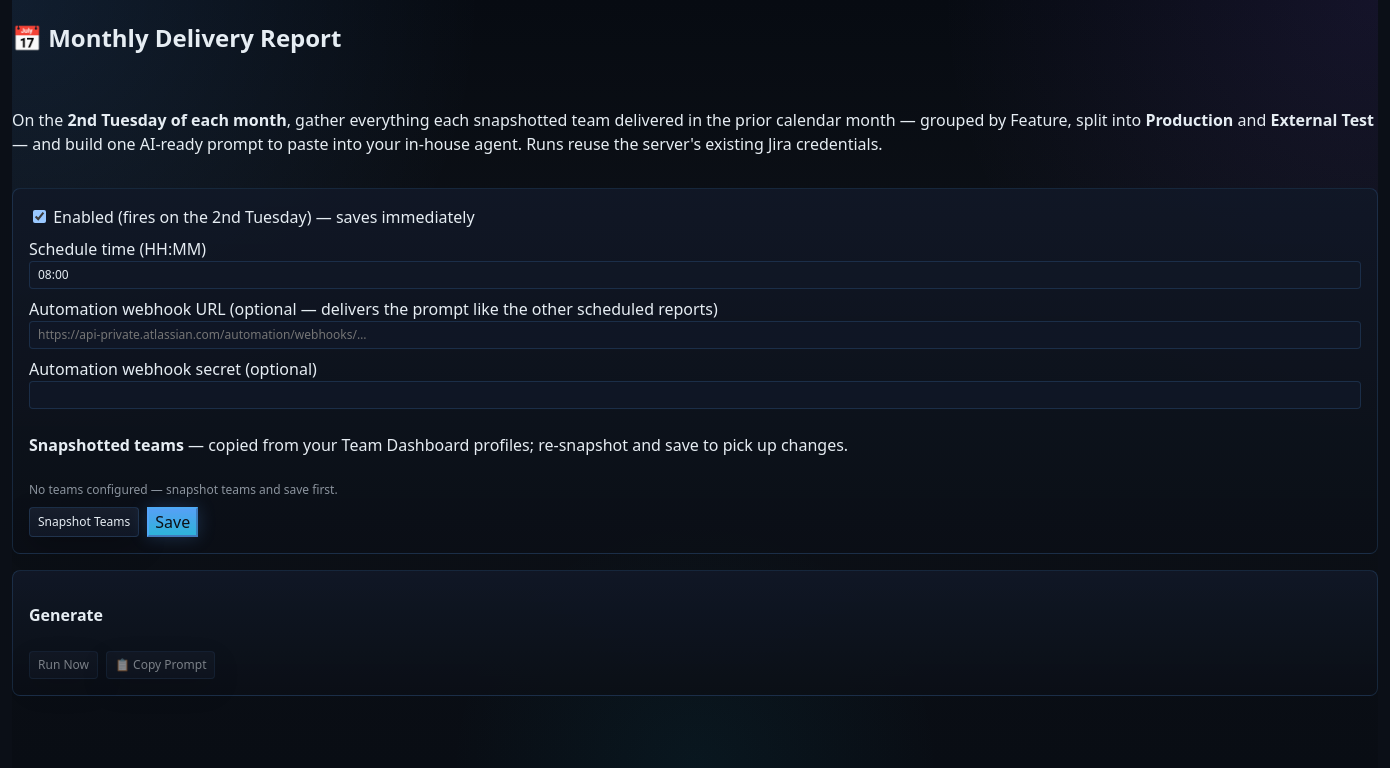
Test case: MonthlyDeliveryPanel — configuration & team snapshot (US1) › snapshots the Team Dashboard profiles into the team list
Click the button "Snapshot Teams": (84, 522) [29,507,139,537]
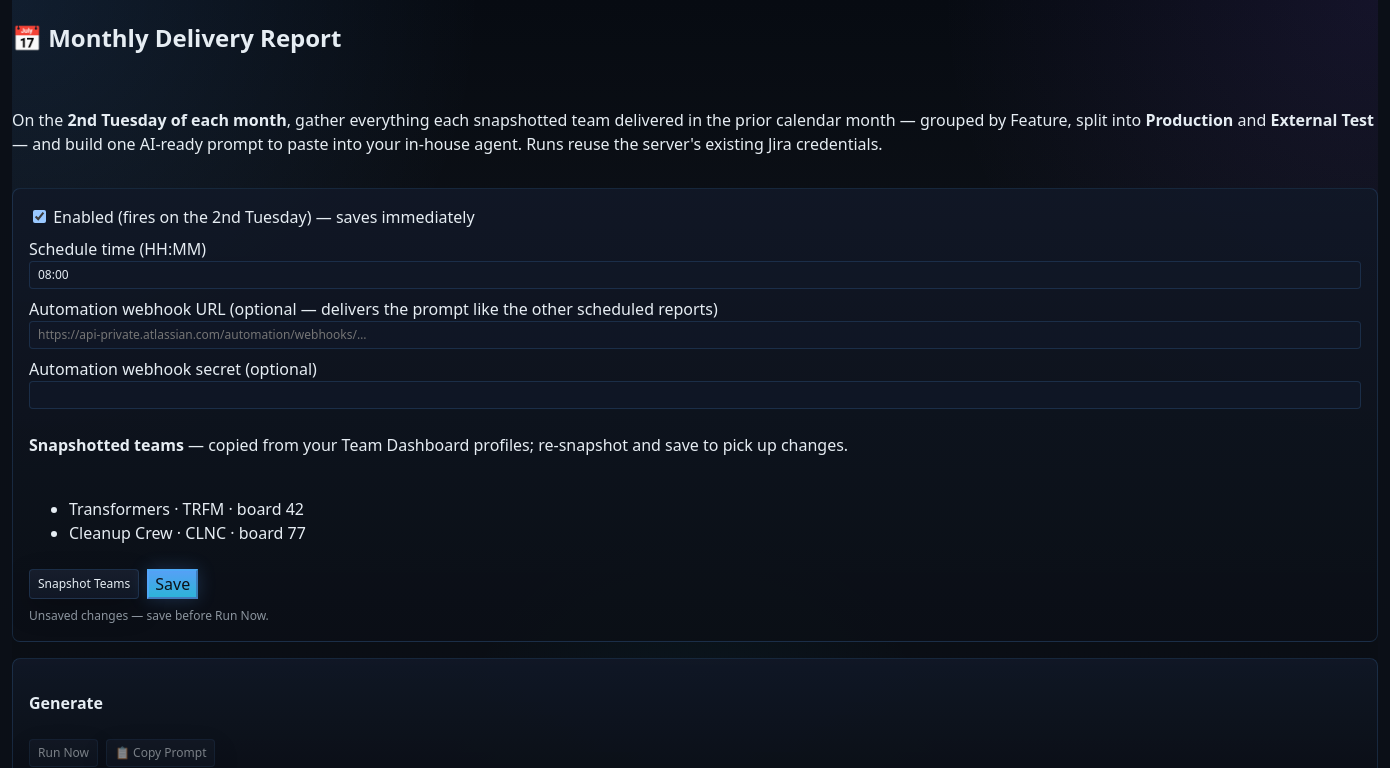
Now the text "Transformers" is shown, box [69,498,170,520]
Now the text "Cleanup Crew" is shown, box [69,522,173,544]
Now the text "CLNC" is shown, box [185,522,226,544]
